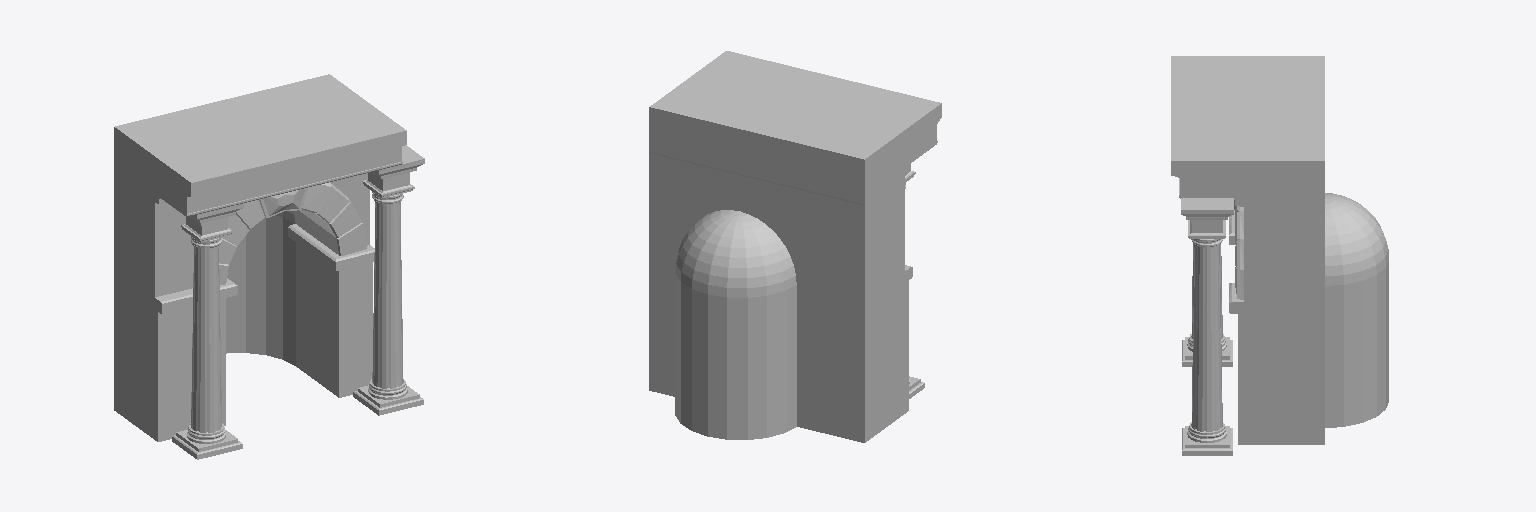
Rendered from ornate_wall_left.obj.
3 renders of one model, left to right at view 1: azimuth 30°, elevation 25°; view 2: azimuth 150°, elevation 25°; view 3: azimuth 270°, elevation 25°, orthographic.
Parts seen in each view (by area): view 1: pCylinder7, polySurface7, polySurface18, polySurface19; view 2: pCylinder7, polySurface7; view 3: pCylinder7, polySurface7, polySurface18, polySurface19.
Boxes of the visible parts, <box> form: pCylinder7: <box>114,74,406,441</box>; polySurface7: <box>226,211,295,365</box>; polySurface18: <box>353,145,424,415</box>; polySurface19: <box>172,203,243,459</box>; pCylinder7: <box>649,51,941,442</box>; polySurface7: <box>675,210,796,439</box>; pCylinder7: <box>1171,56,1324,444</box>; polySurface7: <box>1325,193,1388,427</box>; polySurface18: <box>1181,198,1233,455</box>; polySurface19: <box>1182,244,1232,366</box>.
Bounding box in the file's own units: 42.08 × 47.87 × 33.41.